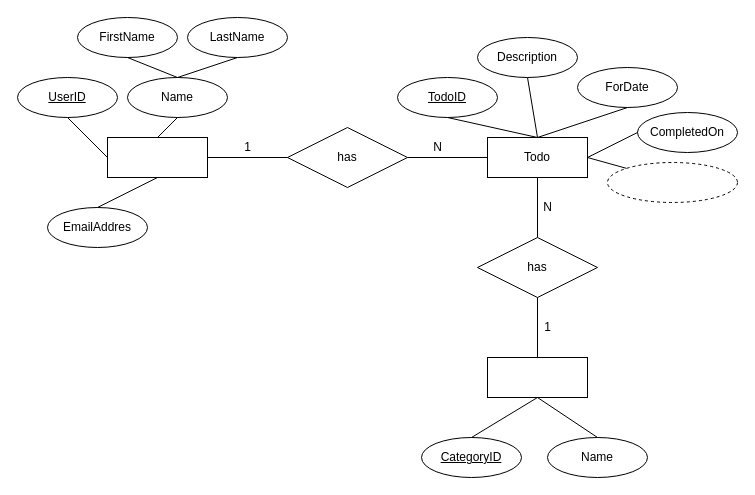
Some shapes in this 755 by 495 pixel diagram are drawn without their labels. The box of each missing label's shape, as (x1, y1, x2, y2) in pixels:
Category: (486, 356, 588, 398)
DaysForCompletion: (606, 162, 738, 202)
User: (106, 136, 208, 178)
